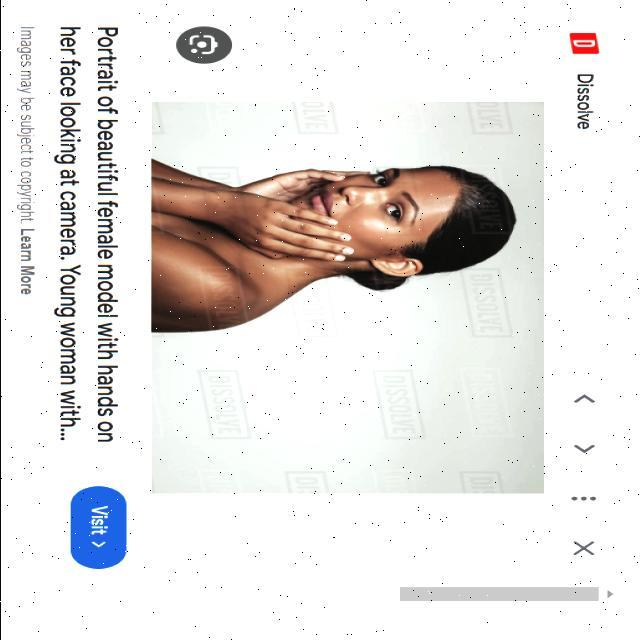face_with_hand: (272, 161, 463, 277)
